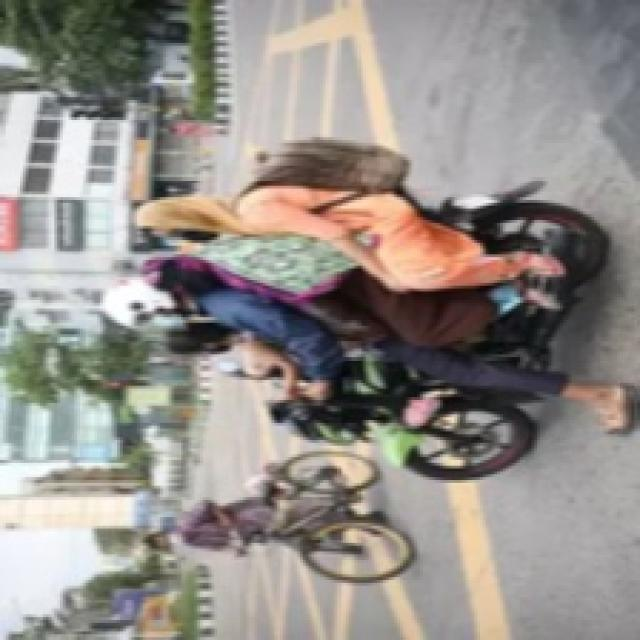bike: (251, 183, 569, 446)
